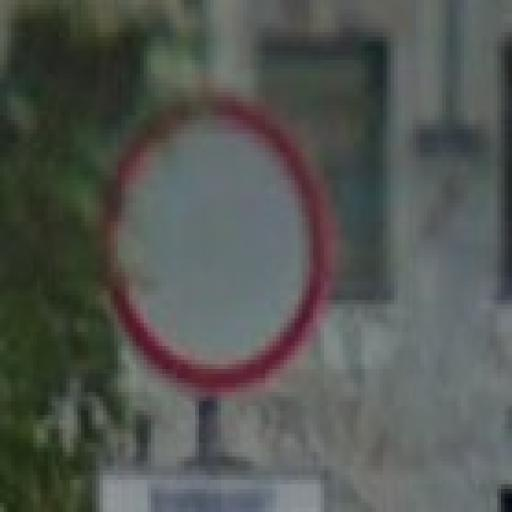traffic_sign: (97, 93, 332, 398)
